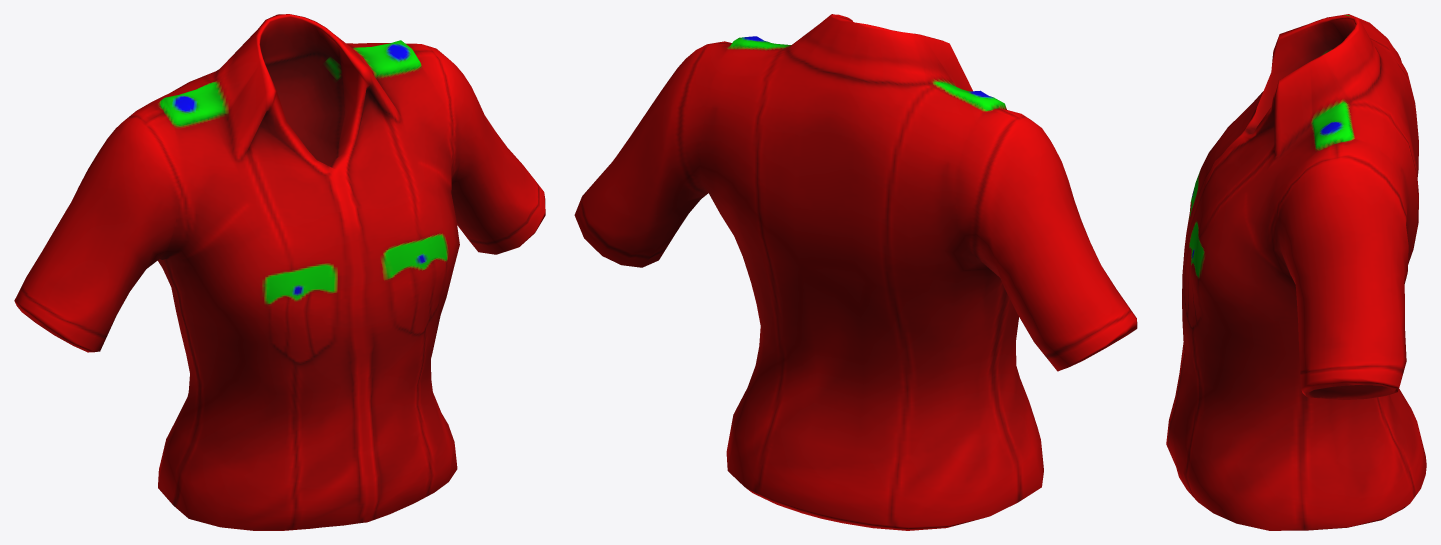
Rendered from Top_Police.obj.
3 renders of one model, left to right at view 1: azimuth 30°, elevation 25°; view 2: azimuth 150°, elevation 25°; view 3: azimuth 270°, elevation 25°, orthographic. The views are drawn at different scales.
Parts seen in each view (by area): view 1: Top_Police_0; view 2: Top_Police_0; view 3: Top_Police_0.
Part boxes in pixels (x1=…): Top_Police_0: x1=14, y1=14, x2=545, y2=530; Top_Police_0: x1=574, y1=14, x2=1137, y2=530; Top_Police_0: x1=1166, y1=14, x2=1426, y2=530.
Size of the model in its own units: 0.5677 by 0.4718 by 0.2472.
Materials: 1 (1 with a texture image).
